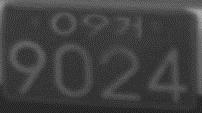0: (53, 41, 93, 98), (50, 10, 78, 35)
2: (101, 45, 141, 102)
4: (150, 47, 188, 103)
9: (8, 39, 47, 95), (82, 12, 109, 39)
거: (114, 15, 143, 39)
